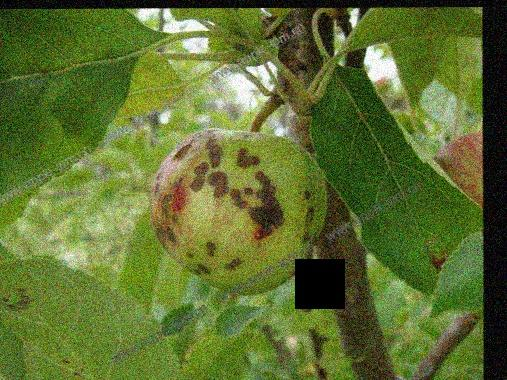rotten apple: (143, 121, 340, 297)
